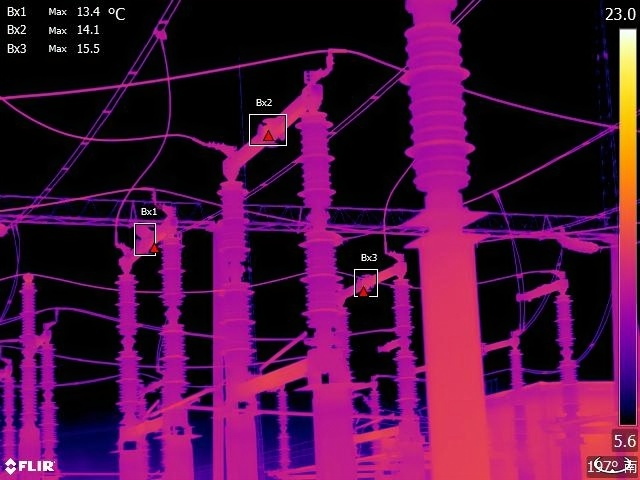clamp: (147, 19, 173, 50)
insulator: (555, 229, 601, 255)
post insulator: (394, 1, 481, 195), (293, 114, 343, 328), (214, 178, 258, 370), (158, 234, 191, 403), (115, 266, 143, 421), (552, 293, 580, 423), (391, 275, 417, 414), (507, 345, 533, 452), (19, 274, 37, 421), (40, 339, 59, 454), (1, 368, 16, 480), (276, 390, 293, 472), (366, 390, 383, 454)
switch: (217, 60, 335, 177), (117, 206, 183, 271), (345, 254, 413, 301), (513, 274, 572, 308), (483, 329, 525, 354)
